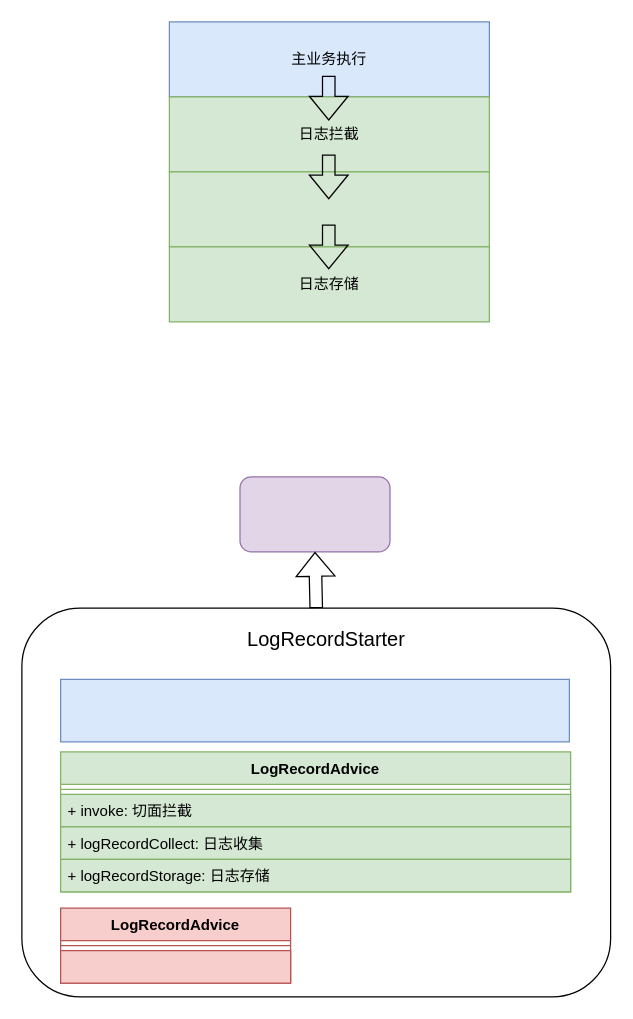
This 633x1019 diagram has some shape labels left out. The shapes that lost their labels are listed below. From the top down, each one's centre as x and y in pixels, then its label:
At (x=328, y=209): "日志收集".
At (x=314, y=514): "业务系统".
At (x=314, y=710): "«annotation» LogRecord".
At (x=175, y=966): "+ congif : 切面注入spring bean".
